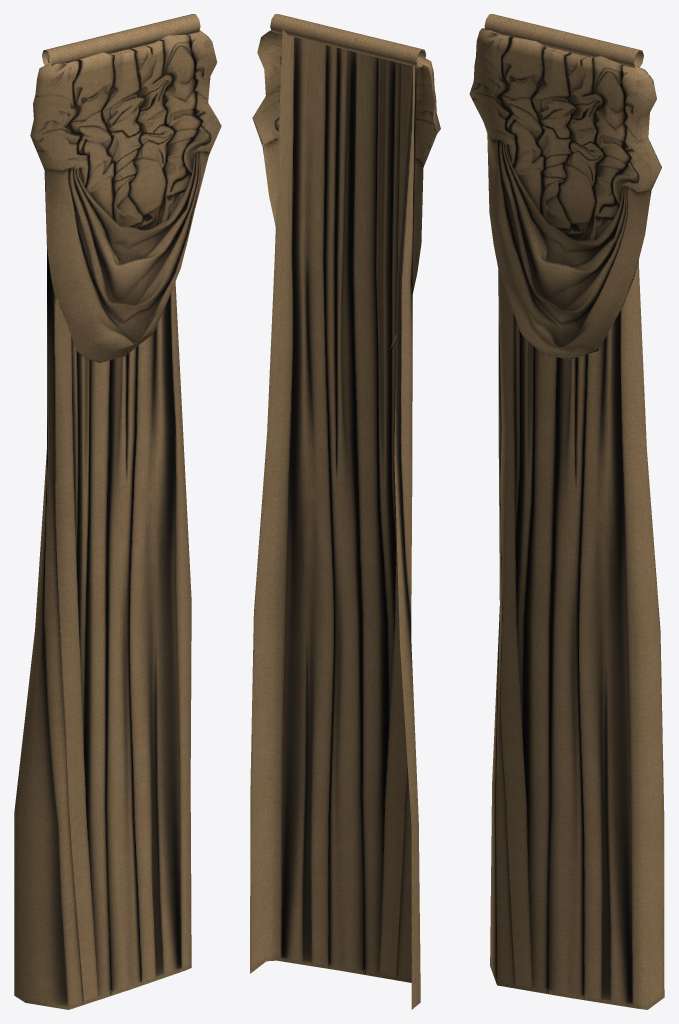
The model's file is Curtain01.FBX.
3 renders of one model, left to right at view 1: azimuth 30°, elevation 25°; view 2: azimuth 150°, elevation 25°; view 3: azimuth 330°, elevation 25°, orthographic. The views are drawn at different scales.
Visible parts, largest first — view 1: Curtain01; view 2: Curtain01; view 3: Curtain01.
Boxes of the visible parts, x1,y1,x2,y2 form: Curtain01: (14,14,221,1009); Curtain01: (250,14,440,1009); Curtain01: (469,14,664,1009).
Bounding box in the file's own units: 90.81 × 443 × 28.42.
